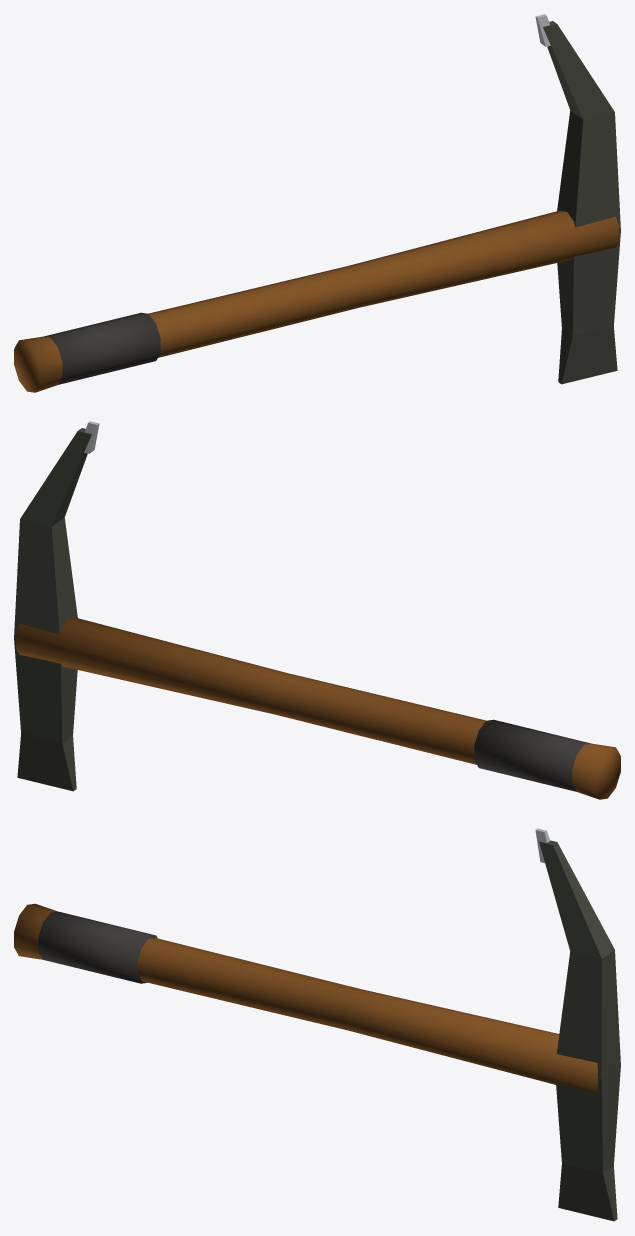
The model's file is held_pick.glb.
3 views of the same model, one above another, from view 1: azimuth 30°, elevation 25°; view 2: azimuth 150°, elevation 25°; view 3: azimuth 330°, elevation 25° (orthographic).
Visible parts, largest first — view 1: haft, spike, chisel, grip; view 2: haft, spike, chisel, grip; view 3: haft, spike, chisel, grip.
Part boxes in pixels (bbox=[...]): haft: bbox=[14, 210, 618, 392]; spike: bbox=[543, 21, 620, 231]; chisel: bbox=[557, 231, 620, 384]; grip: bbox=[44, 312, 160, 384]; haft: bbox=[16, 617, 620, 799]; spike: bbox=[14, 428, 91, 638]; chisel: bbox=[14, 638, 77, 791]; grip: bbox=[474, 719, 590, 791]; haft: bbox=[14, 903, 598, 1093]; spike: bbox=[539, 840, 620, 1079]; chisel: bbox=[556, 1065, 620, 1221]; grip: bbox=[38, 911, 157, 983].
Size of the model in its own units: 0.63 by 0.38 by 0.0488.
